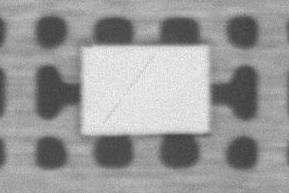DIE_CRACK: (156, 36, 232, 81)
